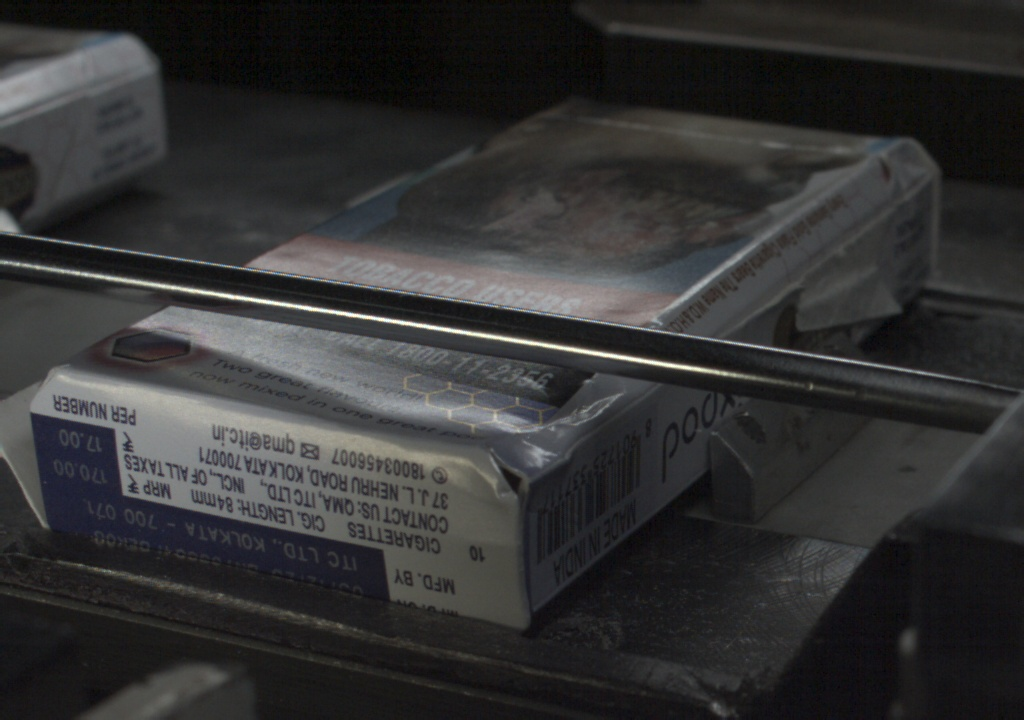g_label: (42, 488, 410, 607)
ng_bottom: (434, 451, 526, 518)
ng_lmiter: (812, 239, 911, 332), (1, 368, 44, 529), (748, 275, 811, 322)
ng_miter: (894, 159, 943, 197)
price: (33, 421, 134, 489)
